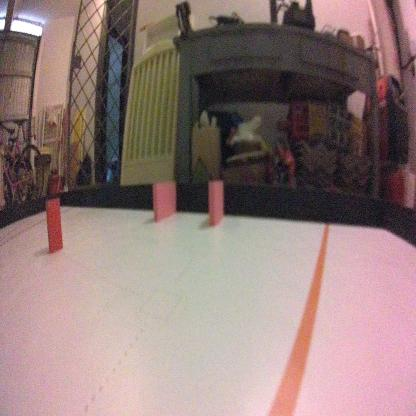magenta: (152, 180, 177, 223), (206, 177, 225, 227)
red: (44, 191, 64, 253)
